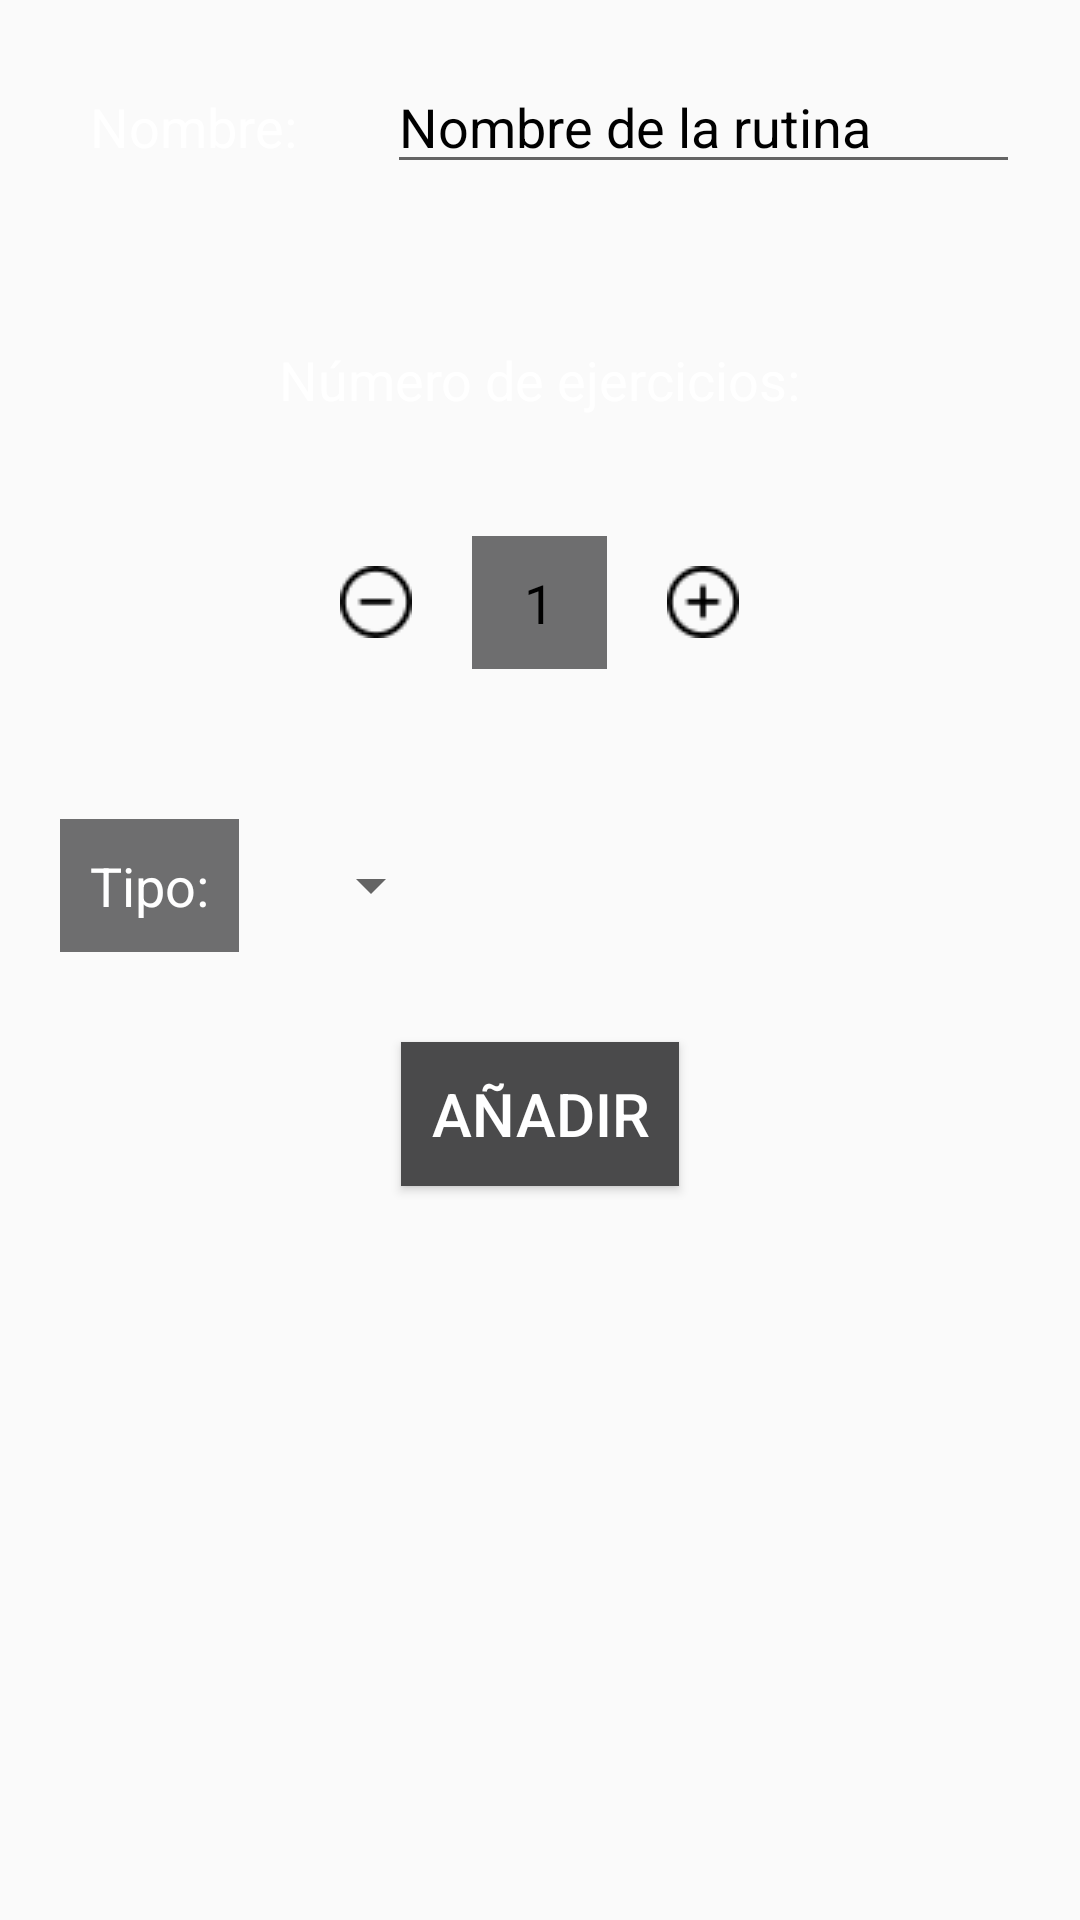

Where icons sit on this 1080×1920 app screen, as BBox(x1, y1, x2, y2):
less: BBox(340, 566, 412, 638)
plus: BBox(667, 566, 739, 638)
